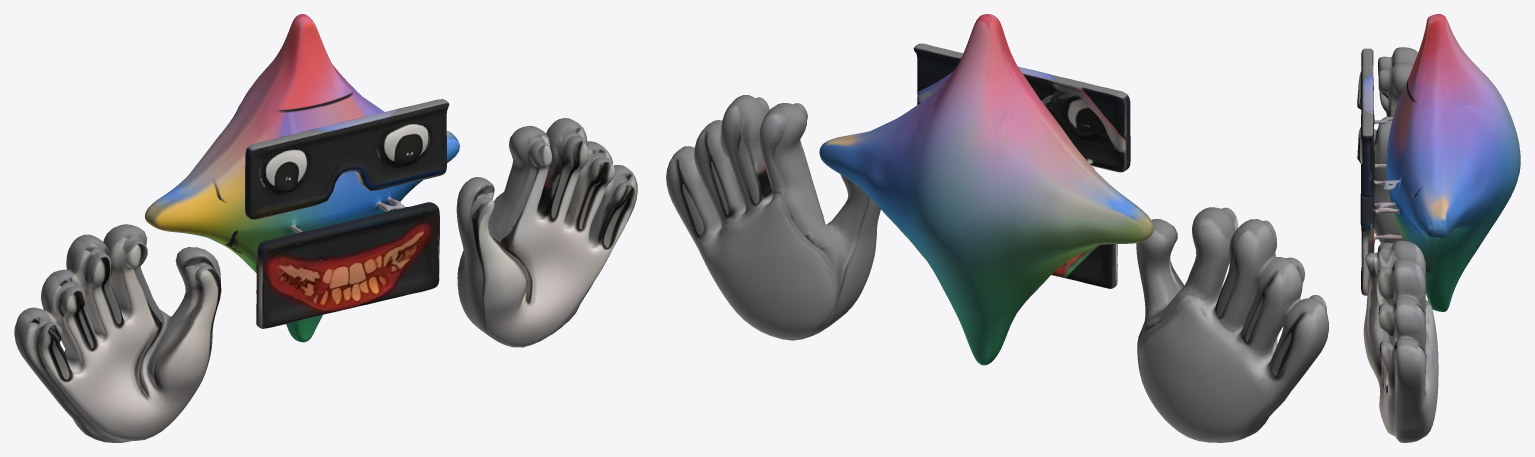
Rendered from Gemini_exe.glb.
3 views of the same model, side by side, from view 1: azimuth 30°, elevation 25°; view 2: azimuth 150°, elevation 25°; view 3: azimuth 270°, elevation 25° (orthographic). The views are drawn at different scales.
Parts seen in each view (by area): view 1: tripo_node_2b2d3703-1502-4d0f-8fb0-3661ea0e3370; view 2: tripo_node_2b2d3703-1502-4d0f-8fb0-3661ea0e3370; view 3: tripo_node_2b2d3703-1502-4d0f-8fb0-3661ea0e3370.
Boxes of the visible parts, x1,y1,x2,y2 form: tripo_node_2b2d3703-1502-4d0f-8fb0-3661ea0e3370: (14, 14, 637, 442); tripo_node_2b2d3703-1502-4d0f-8fb0-3661ea0e3370: (666, 14, 1328, 442); tripo_node_2b2d3703-1502-4d0f-8fb0-3661ea0e3370: (1357, 14, 1520, 442).
Size of the model in its own units: 0.9998 by 0.5639 by 0.2533.
1 material, 1 textured.
